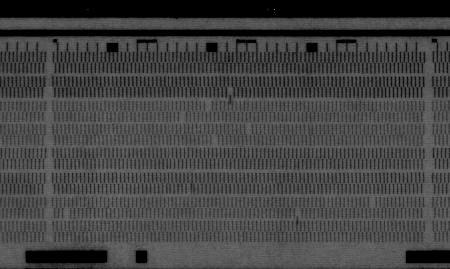Broken hole: (366, 196, 379, 209), (209, 135, 221, 147), (61, 207, 72, 220), (243, 123, 254, 135), (202, 101, 213, 112), (177, 111, 187, 123)
Oblique printing: (225, 86, 236, 102), (183, 184, 196, 195), (293, 207, 304, 220)
